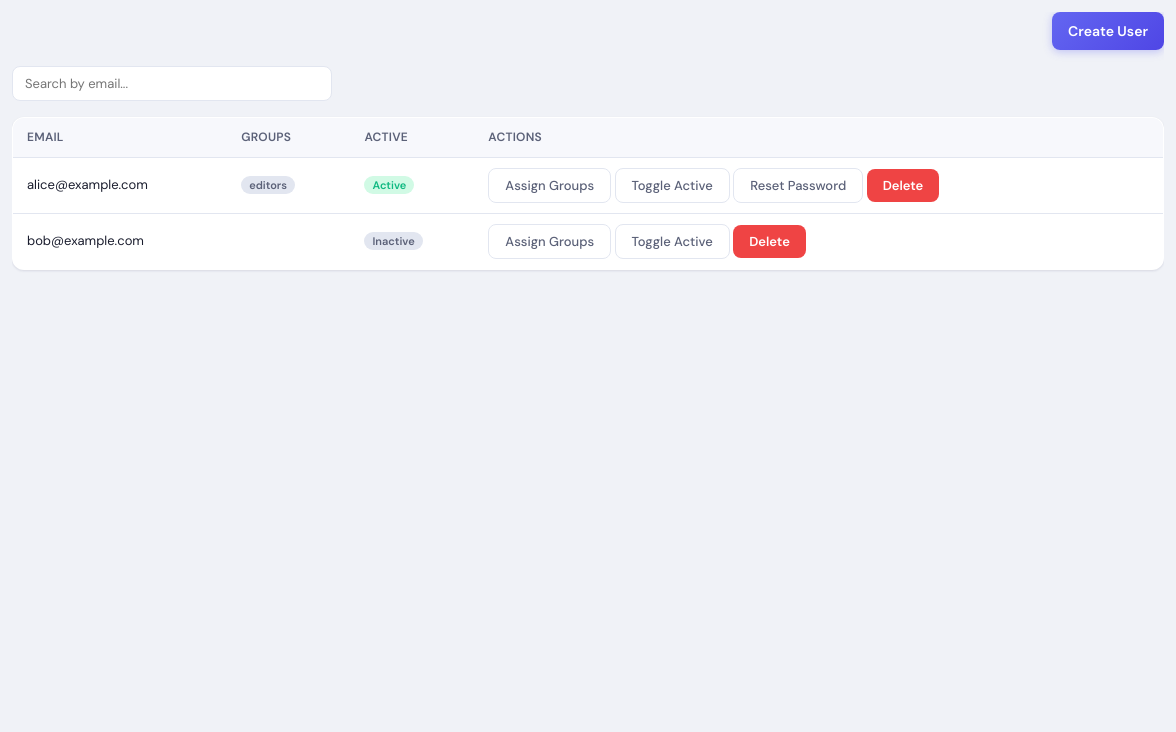
UsersTab › clicking email cell expands ApiKeyPanel for that user
Click the text "alice@example.com" at (120, 186), box [12,158,227,214]
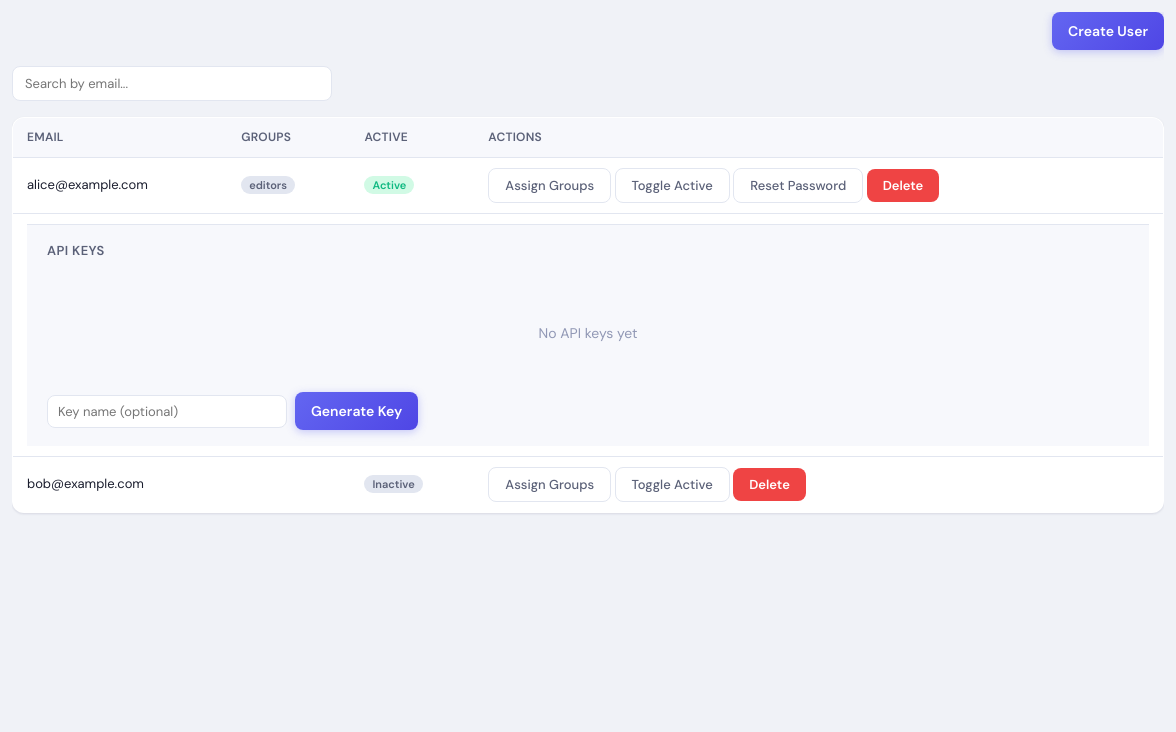
expect the element with class "api-key-panel" is shown: met, box [27,224,1149,446]
